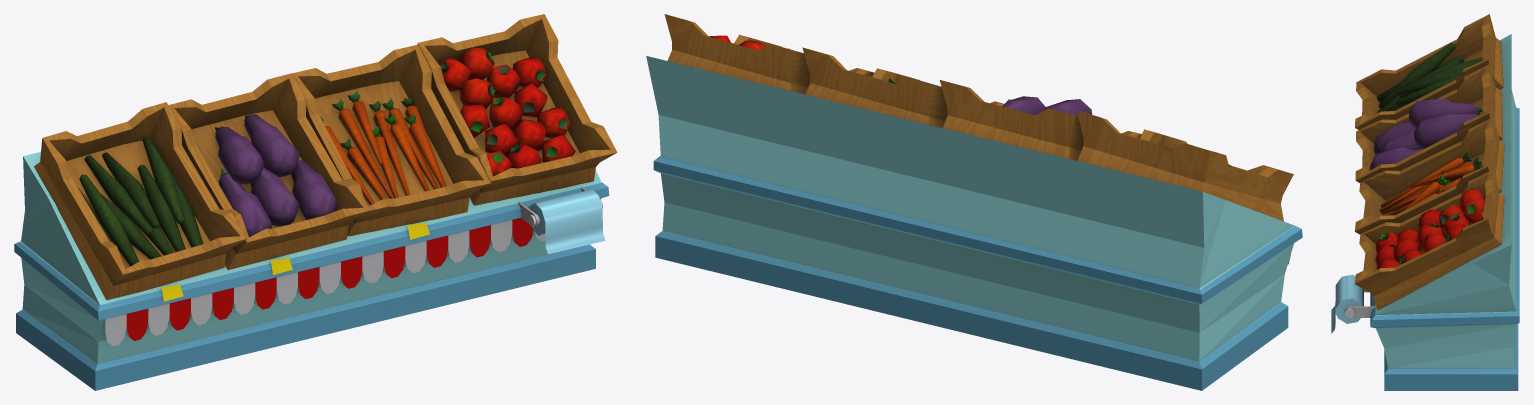
File: interior_display_stand_vegetables_001_mesh.FBX
The picture shows the model from 3 angles, left to right: view 1: azimuth 30°, elevation 25°; view 2: azimuth 150°, elevation 25°; view 3: azimuth 270°, elevation 25°; orthographic projection. The views are drawn at different scales.
Parts seen in each view (by area): view 1: interior_display_stand_vegetables_001_gr; view 2: interior_display_stand_vegetables_001_gr; view 3: interior_display_stand_vegetables_001_gr.
Boxes of the visible parts, box(x1,y1,x2,y2) form: interior_display_stand_vegetables_001_gr: box(14, 14, 617, 390); interior_display_stand_vegetables_001_gr: box(646, 14, 1302, 390); interior_display_stand_vegetables_001_gr: box(1331, 14, 1519, 390).
Size of the model in its own units: 28.97 by 11.31 by 10.78.
